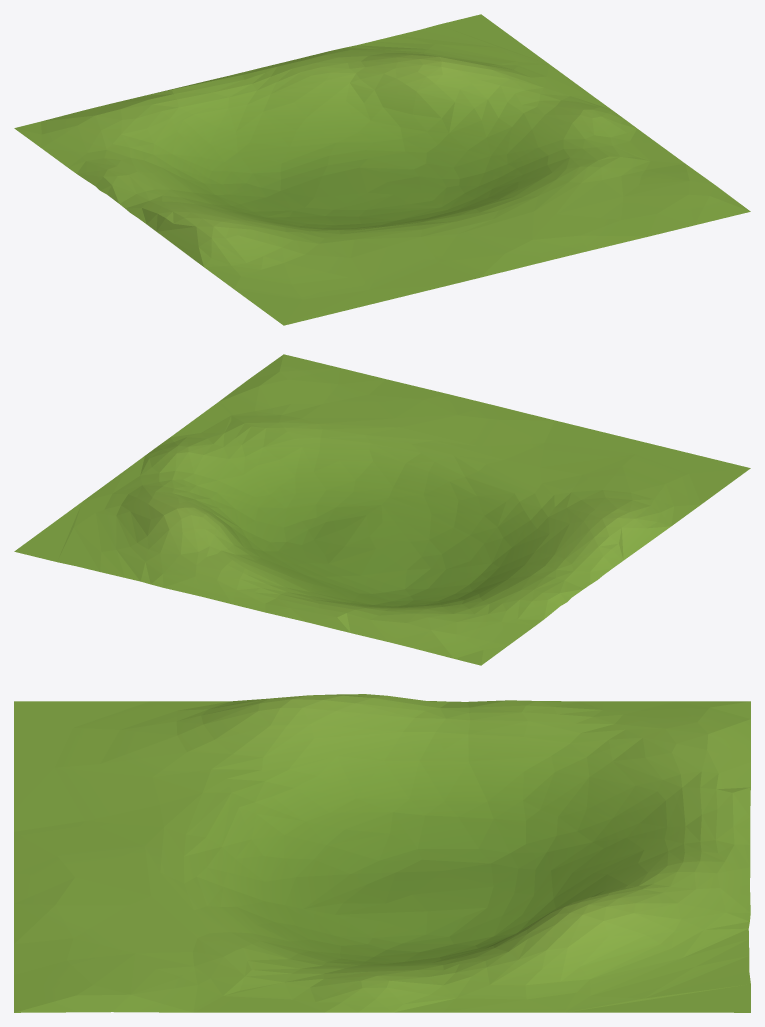
The picture shows the model from 3 angles, top to bottom: view 1: azimuth 30°, elevation 25°; view 2: azimuth 150°, elevation 25°; view 3: azimuth 270°, elevation 25°; orthographic projection. The views are drawn at different scales.
Parts seen in each view (by area): view 1: Plane_05; view 2: Plane_05; view 3: Plane_05.
Boxes of the visible parts, x1,y1,x2,y2 form: Plane_05: (14,14,750,325); Plane_05: (14,354,750,665); Plane_05: (14,694,750,1012).
Size of the model in its own units: 50.01 by 5.88 by 50.
